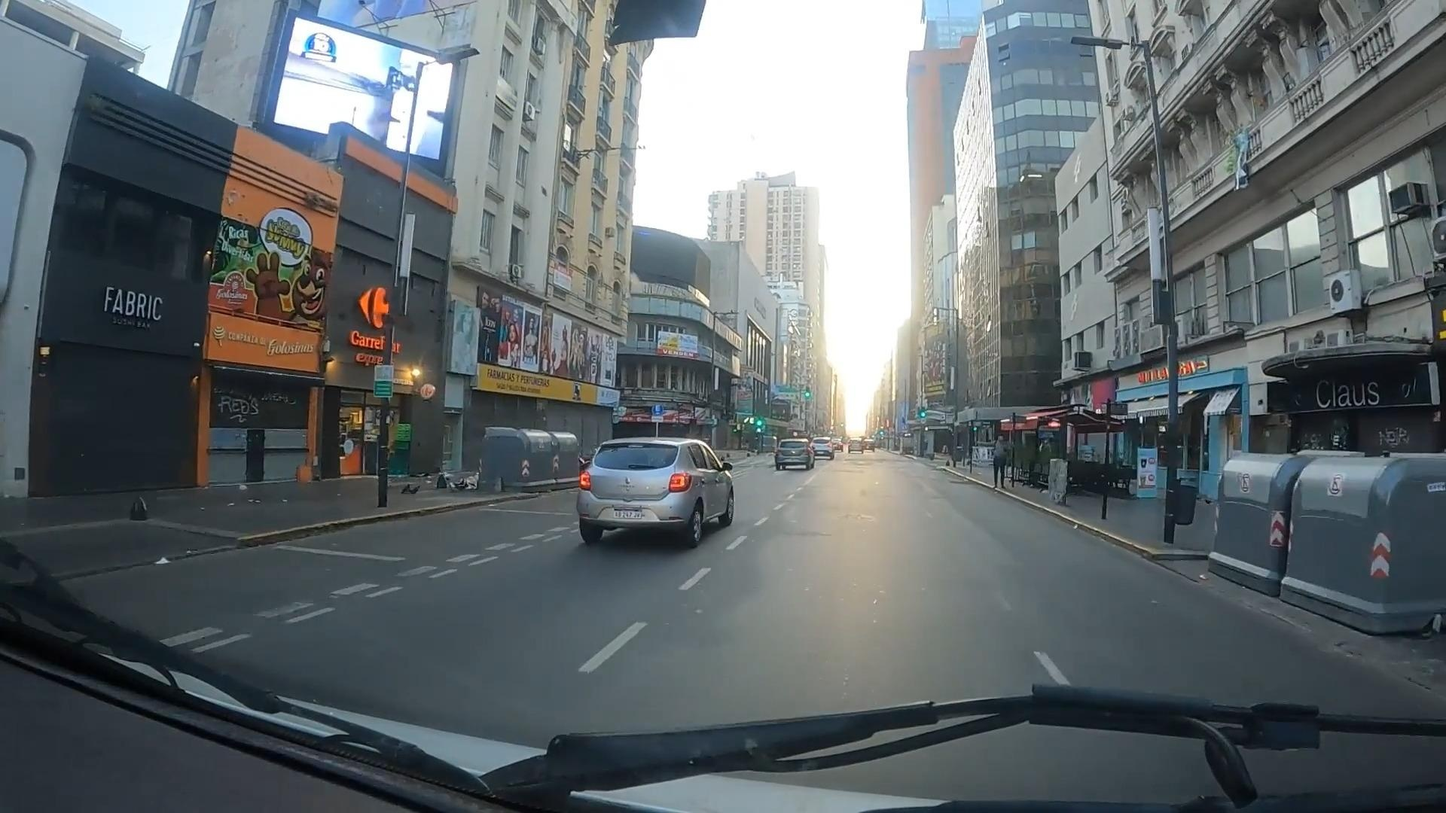Ice: (11, 446, 1445, 736)
